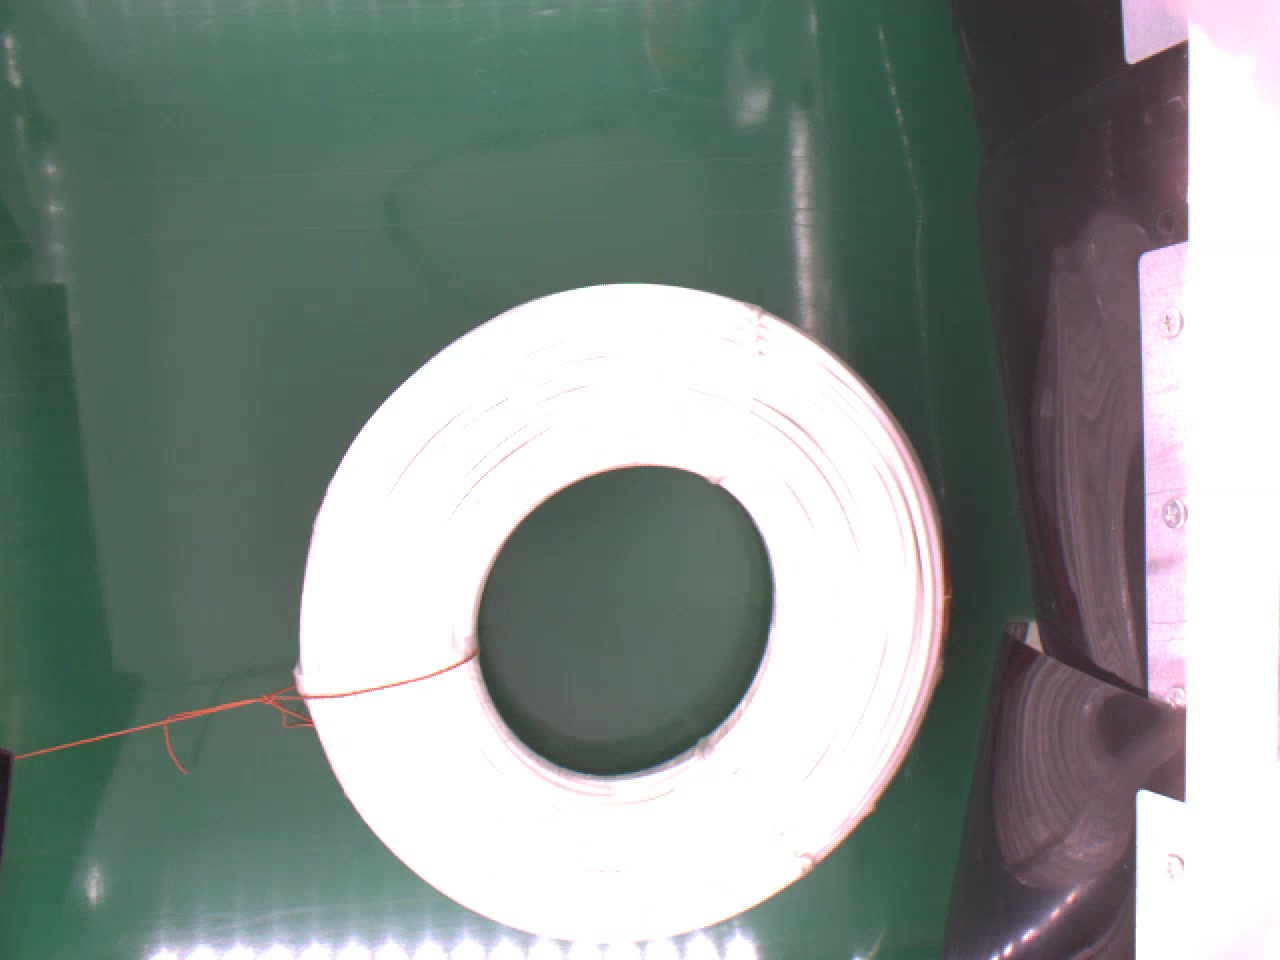white: (291, 279, 953, 943)
